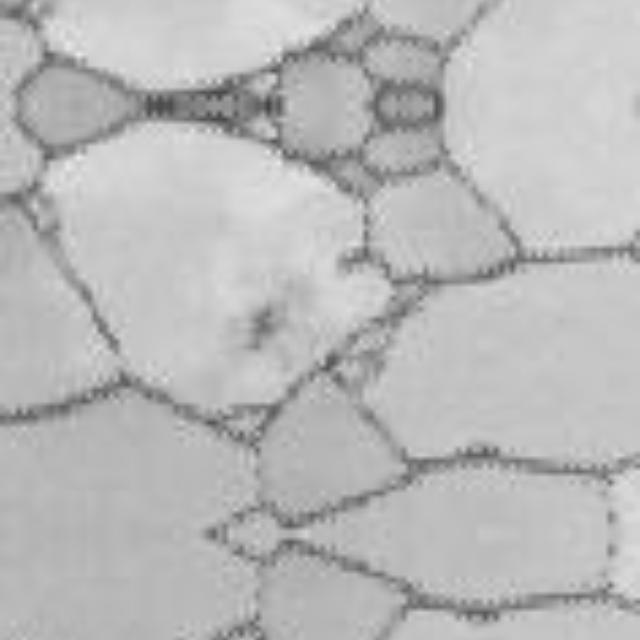good_void: (226, 296, 293, 355)
